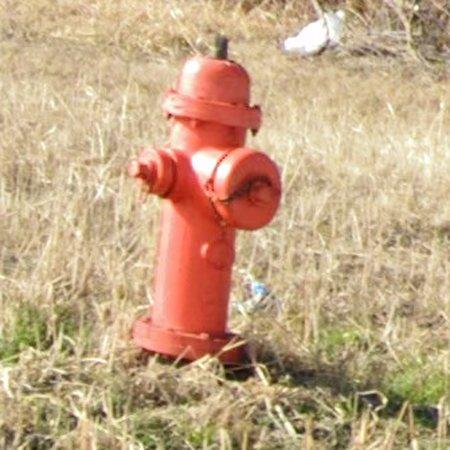a fire hydrant: (129, 39, 282, 365)
